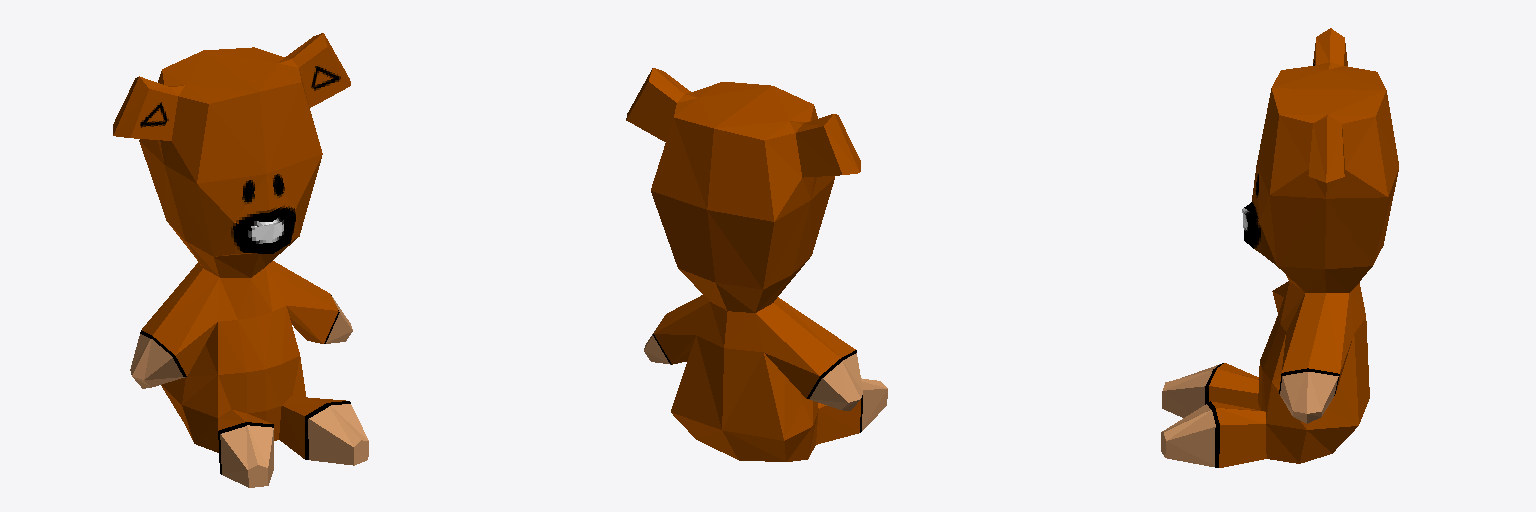
3 views of the same model, side by side, from view 1: azimuth 30°, elevation 25°; view 2: azimuth 150°, elevation 25°; view 3: azimuth 270°, elevation 25° (orthographic).
Parts seen in each view (by area): view 1: Teddy; view 2: Teddy; view 3: Teddy.
Part boxes in pixels (x1,y1,x2,y2): Teddy: (113, 33, 368, 487); Teddy: (626, 68, 887, 461); Teddy: (1161, 28, 1398, 467).
Bounding box in the file's own units: 0.4926 × 0.7348 × 0.4331.
Materials: 1 (1 with a texture image).